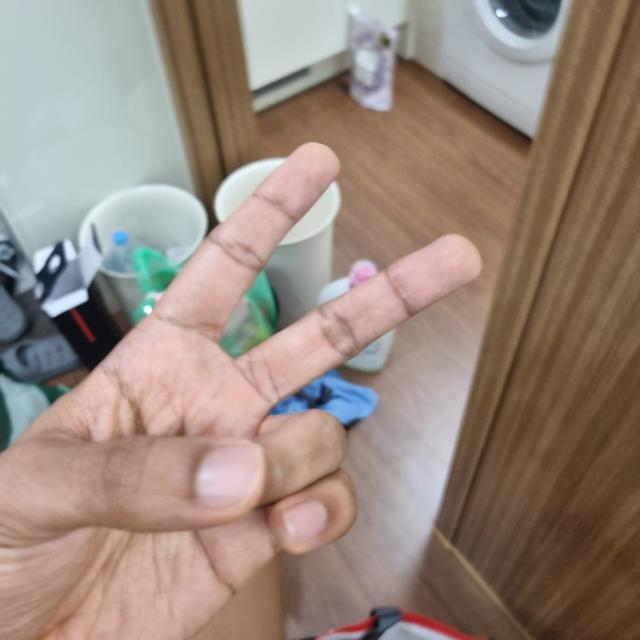Scissors: (0, 146, 479, 640)
